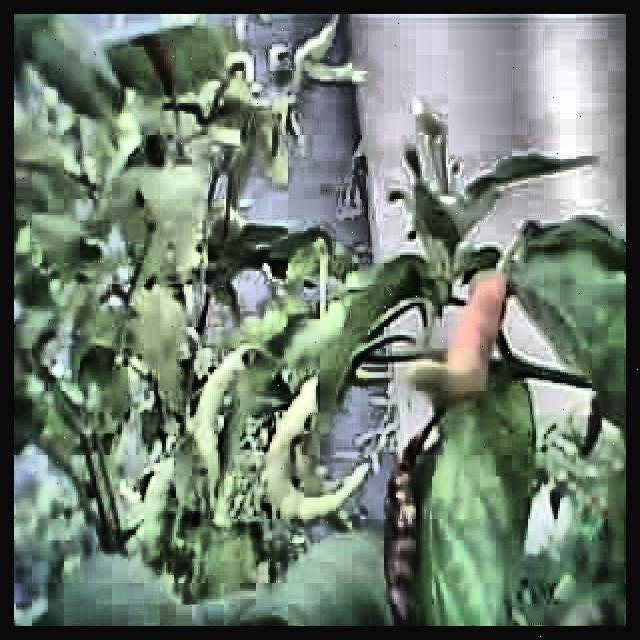Cabai: (384, 262, 509, 419)
